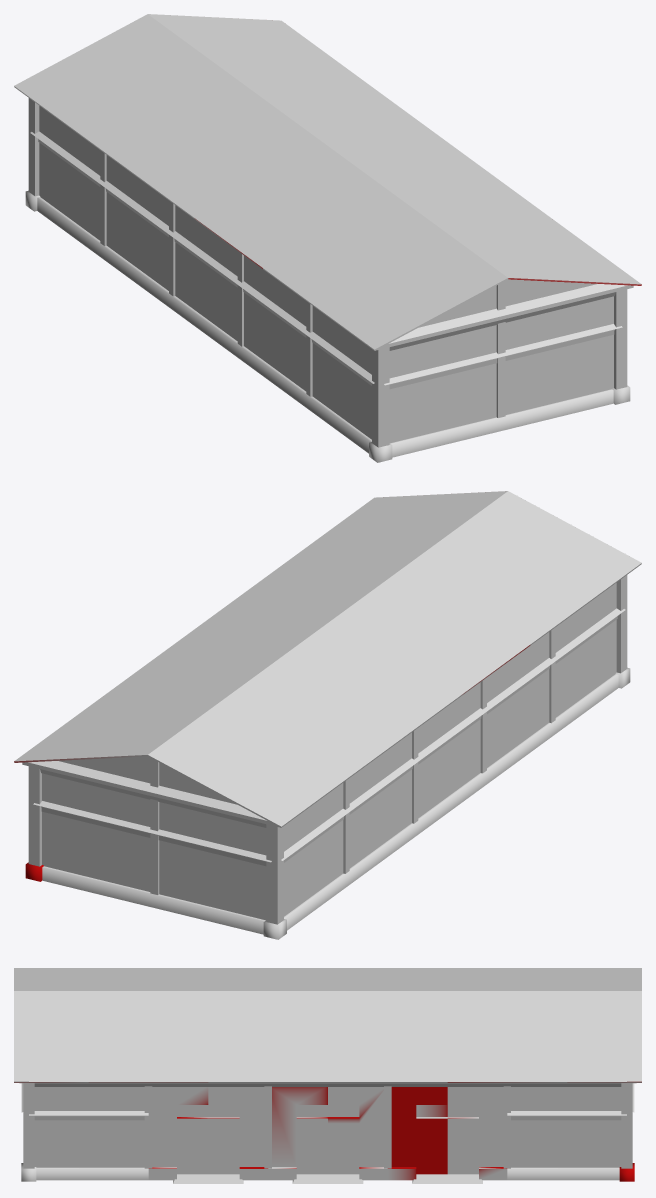
Rendered from garage.fbx.
3 views of the same model, one above another, from view 1: azimuth 30°, elevation 25°; view 2: azimuth 150°, elevation 25°; view 3: azimuth 270°, elevation 25° (orthographic). The views are drawn at different scales.
Visible parts, largest first — view 1: Garage; view 2: Garage; view 3: Garage.
Part boxes in pixels (x1,y1,x2,y2): Garage: (14, 14, 641, 462); Garage: (14, 491, 641, 939); Garage: (14, 968, 641, 1183).
Bounding box in the file's own units: 18 × 10.12 × 42.
